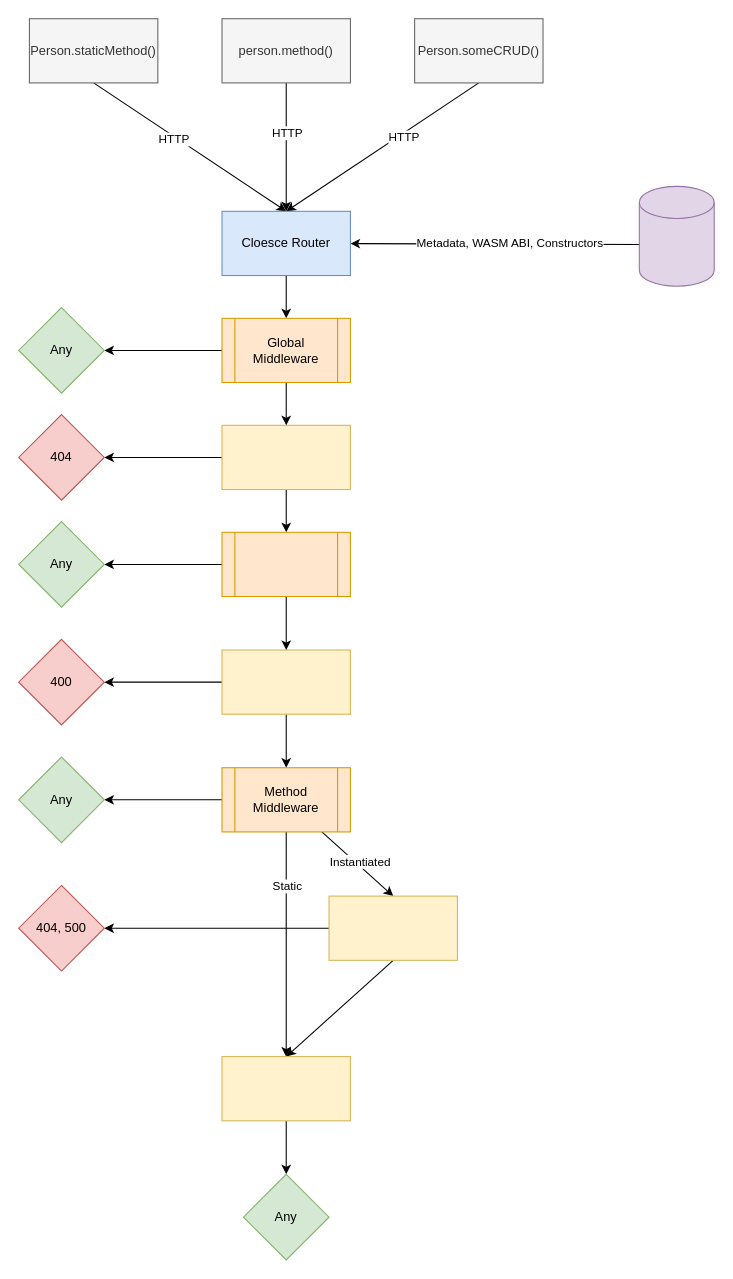
Image size: 733x1279. Some labels were removed from this diagram. Here are the shapes that lost their labels. From the top down, the box of each, then its label:
(638, 185, 714, 286): Runtime Container (Singleton)
(221, 424, 350, 490): Match Route
(221, 531, 350, 597): Model Middleware
(221, 649, 350, 714): Validate Body / Params
(328, 895, 457, 960): Hydrate Model
(221, 1056, 350, 1121): Method Dispatch
